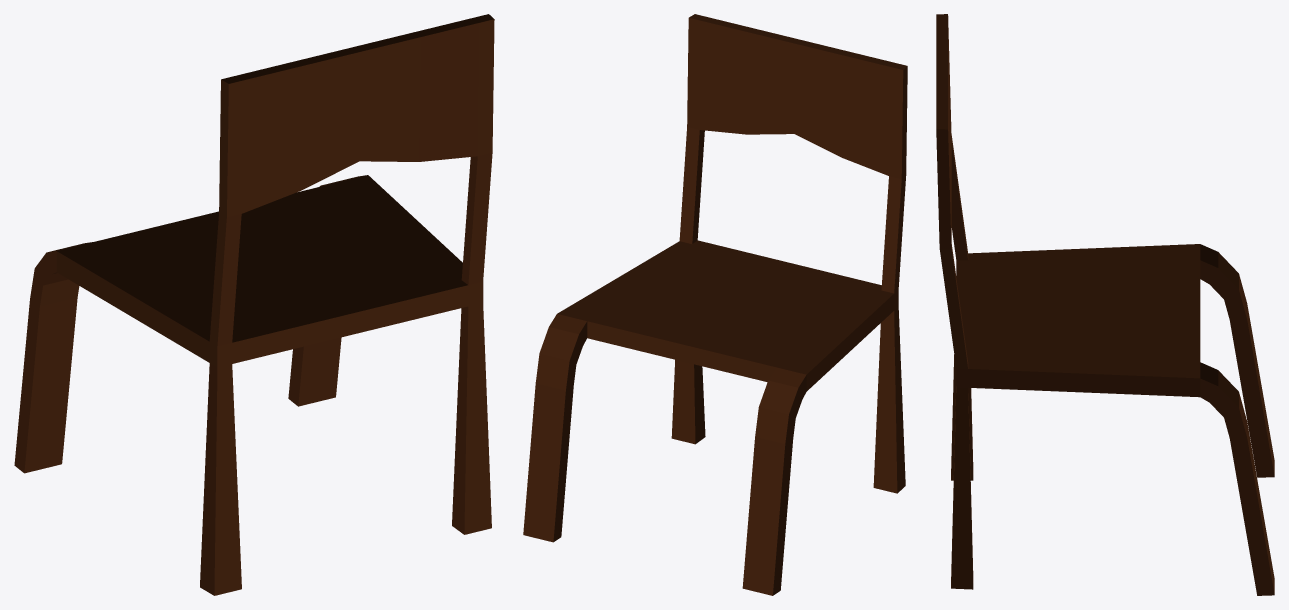
The model's file is Chair 3.fbx.
The picture shows the model from 3 angles, left to right: view 1: azimuth 30°, elevation 25°; view 2: azimuth 150°, elevation 25°; view 3: azimuth 270°, elevation 25°; orthographic projection. The views are drawn at different scales.
Visible parts, largest first — view 1: Node 0; view 2: Node 0; view 3: Node 0.
Part boxes in pixels (x1,y1,x2,y2): Node 0: [14, 14, 494, 595]; Node 0: [523, 14, 907, 595]; Node 0: [936, 14, 1274, 595].
Bounding box in the file's own units: 0.9418 × 1.4 × 0.8854.
